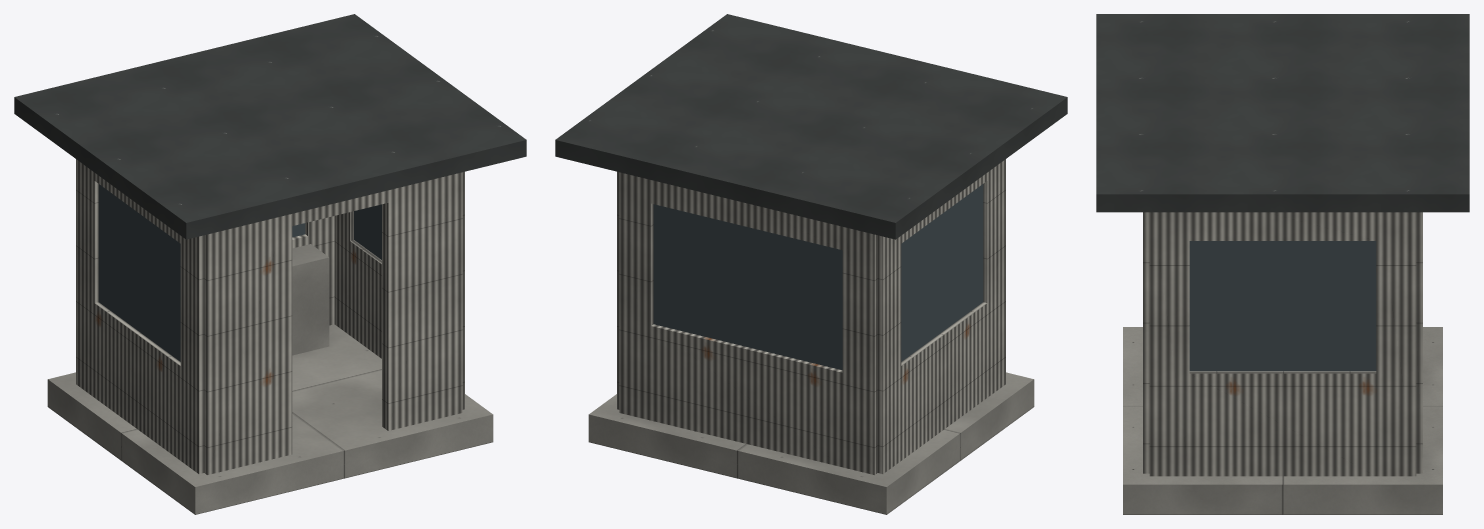
Rendered from gate_booth.glb.
3 views of the same model, side by side, from view 1: azimuth 30°, elevation 25°; view 2: azimuth 150°, elevation 25°; view 3: azimuth 270°, elevation 25° (orthographic). The views are drawn at different scales.
Parts seen in each view (by area): view 1: gate_booth; view 2: gate_booth; view 3: gate_booth.
Boxes of the visible parts, x1,y1,x2,y2 form: gate_booth: [14, 14, 526, 514]; gate_booth: [555, 14, 1067, 514]; gate_booth: [1096, 14, 1469, 514].
Size of the model in its own units: 3.2 by 2.75 by 2.8.
4 materials, 3 textured.
